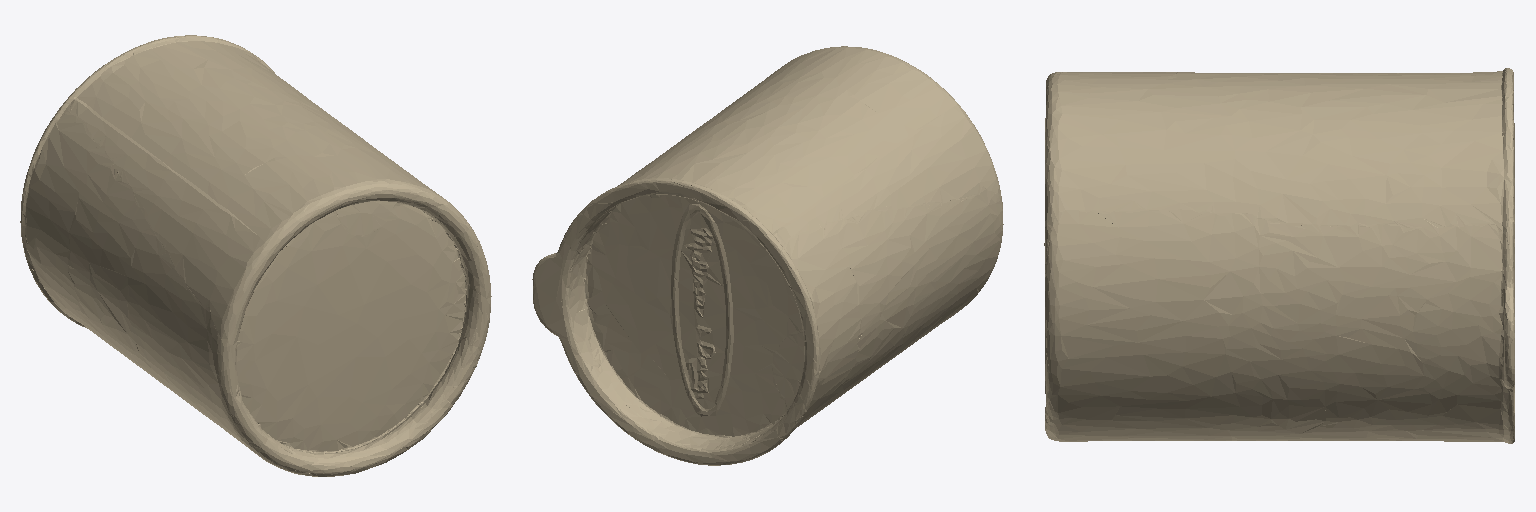
The robot description file, URDF, robot "object_183136364331389":
<?xml version="1.0"?>
<!-- Auto-generated by convert_assets.py from objects/183136364331389.
     Inertial: density 800.0 kg/m^3, raw mass 0.202587 kg clamped to 0.202587 kg (inertia scaled to match). -->
<robot name="object_183136364331389">
  <link name="baseLink">
    <inertial>
      <origin rpy="0 0 0" xyz="-0.00154425823 0.0400050367 -0.002904644"/>
      <mass value="0.202586916"/>
      <inertia ixx="0.000152587612" ixy="-3.96968066e-07" ixz="-1.00969009e-07" iyy="0.000111867772" iyz="5.92336513e-08" izz="0.000152429469"/>
    </inertial>
    <visual>
      <origin rpy="0 0 0" xyz="0 0 0"/>
      <geometry><mesh filename="../visual.obj" scale="1.0 1.0 1.0"/></geometry>
      <material name="mat"><color rgba="0.75 0.7 0.6 1"/></material>
    </visual>
    <collision name="collision_0">
      <origin rpy="0 0 0" xyz="0 0 0"/>
      <geometry><mesh filename="../convex/0.obj" scale="1.0 1.0 1.0"/></geometry>
    </collision>
    <collision name="collision_1">
      <origin rpy="0 0 0" xyz="0 0 0"/>
      <geometry><mesh filename="../convex/1.obj" scale="1.0 1.0 1.0"/></geometry>
    </collision>
    <collision name="collision_2">
      <origin rpy="0 0 0" xyz="0 0 0"/>
      <geometry><mesh filename="../convex/2.obj" scale="1.0 1.0 1.0"/></geometry>
    </collision>
    <collision name="collision_3">
      <origin rpy="0 0 0" xyz="0 0 0"/>
      <geometry><mesh filename="../convex/3.obj" scale="1.0 1.0 1.0"/></geometry>
    </collision>
    <collision name="collision_4">
      <origin rpy="0 0 0" xyz="0 0 0"/>
      <geometry><mesh filename="../convex/4.obj" scale="1.0 1.0 1.0"/></geometry>
    </collision>
    <collision name="collision_5">
      <origin rpy="0 0 0" xyz="0 0 0"/>
      <geometry><mesh filename="../convex/5.obj" scale="1.0 1.0 1.0"/></geometry>
    </collision>
    <collision name="collision_6">
      <origin rpy="0 0 0" xyz="0 0 0"/>
      <geometry><mesh filename="../convex/6.obj" scale="1.0 1.0 1.0"/></geometry>
    </collision>
    <collision name="collision_7">
      <origin rpy="0 0 0" xyz="0 0 0"/>
      <geometry><mesh filename="../convex/7.obj" scale="1.0 1.0 1.0"/></geometry>
    </collision>
    <collision name="collision_8">
      <origin rpy="0 0 0" xyz="0 0 0"/>
      <geometry><mesh filename="../convex/8.obj" scale="1.0 1.0 1.0"/></geometry>
    </collision>
    <collision name="collision_9">
      <origin rpy="0 0 0" xyz="0 0 0"/>
      <geometry><mesh filename="../convex/9.obj" scale="1.0 1.0 1.0"/></geometry>
    </collision>
    <collision name="collision_10">
      <origin rpy="0 0 0" xyz="0 0 0"/>
      <geometry><mesh filename="../convex/10.obj" scale="1.0 1.0 1.0"/></geometry>
    </collision>
    <collision name="collision_11">
      <origin rpy="0 0 0" xyz="0 0 0"/>
      <geometry><mesh filename="../convex/11.obj" scale="1.0 1.0 1.0"/></geometry>
    </collision>
    <collision name="collision_12">
      <origin rpy="0 0 0" xyz="0 0 0"/>
      <geometry><mesh filename="../convex/12.obj" scale="1.0 1.0 1.0"/></geometry>
    </collision>
    <collision name="collision_13">
      <origin rpy="0 0 0" xyz="0 0 0"/>
      <geometry><mesh filename="../convex/13.obj" scale="1.0 1.0 1.0"/></geometry>
    </collision>
    <collision name="collision_14">
      <origin rpy="0 0 0" xyz="0 0 0"/>
      <geometry><mesh filename="../convex/14.obj" scale="1.0 1.0 1.0"/></geometry>
    </collision>
    <collision name="collision_15">
      <origin rpy="0 0 0" xyz="0 0 0"/>
      <geometry><mesh filename="../convex/15.obj" scale="1.0 1.0 1.0"/></geometry>
    </collision>
    <collision name="collision_16">
      <origin rpy="0 0 0" xyz="0 0 0"/>
      <geometry><mesh filename="../convex/16.obj" scale="1.0 1.0 1.0"/></geometry>
    </collision>
    <collision name="collision_17">
      <origin rpy="0 0 0" xyz="0 0 0"/>
      <geometry><mesh filename="../convex/17.obj" scale="1.0 1.0 1.0"/></geometry>
    </collision>
    <collision name="collision_18">
      <origin rpy="0 0 0" xyz="0 0 0"/>
      <geometry><mesh filename="../convex/18.obj" scale="1.0 1.0 1.0"/></geometry>
    </collision>
    <collision name="collision_19">
      <origin rpy="0 0 0" xyz="0 0 0"/>
      <geometry><mesh filename="../convex/19.obj" scale="1.0 1.0 1.0"/></geometry>
    </collision>
    <collision name="collision_20">
      <origin rpy="0 0 0" xyz="0 0 0"/>
      <geometry><mesh filename="../convex/20.obj" scale="1.0 1.0 1.0"/></geometry>
    </collision>
    <collision name="collision_21">
      <origin rpy="0 0 0" xyz="0 0 0"/>
      <geometry><mesh filename="../convex/21.obj" scale="1.0 1.0 1.0"/></geometry>
    </collision>
    <collision name="collision_22">
      <origin rpy="0 0 0" xyz="0 0 0"/>
      <geometry><mesh filename="../convex/22.obj" scale="1.0 1.0 1.0"/></geometry>
    </collision>
    <collision name="collision_23">
      <origin rpy="0 0 0" xyz="0 0 0"/>
      <geometry><mesh filename="../convex/23.obj" scale="1.0 1.0 1.0"/></geometry>
    </collision>
    <collision name="collision_24">
      <origin rpy="0 0 0" xyz="0 0 0"/>
      <geometry><mesh filename="../convex/24.obj" scale="1.0 1.0 1.0"/></geometry>
    </collision>
    <collision name="collision_25">
      <origin rpy="0 0 0" xyz="0 0 0"/>
      <geometry><mesh filename="../convex/25.obj" scale="1.0 1.0 1.0"/></geometry>
    </collision>
    <collision name="collision_26">
      <origin rpy="0 0 0" xyz="0 0 0"/>
      <geometry><mesh filename="../convex/26.obj" scale="1.0 1.0 1.0"/></geometry>
    </collision>
    <collision name="collision_27">
      <origin rpy="0 0 0" xyz="0 0 0"/>
      <geometry><mesh filename="../convex/27.obj" scale="1.0 1.0 1.0"/></geometry>
    </collision>
    <collision name="collision_28">
      <origin rpy="0 0 0" xyz="0 0 0"/>
      <geometry><mesh filename="../convex/28.obj" scale="1.0 1.0 1.0"/></geometry>
    </collision>
    <collision name="collision_29">
      <origin rpy="0 0 0" xyz="0 0 0"/>
      <geometry><mesh filename="../convex/29.obj" scale="1.0 1.0 1.0"/></geometry>
    </collision>
    <collision name="collision_30">
      <origin rpy="0 0 0" xyz="0 0 0"/>
      <geometry><mesh filename="../convex/30.obj" scale="1.0 1.0 1.0"/></geometry>
    </collision>
  </link>
</robot>

--- What the picture shows (computed from the rendered views, not written in the file) ---
The picture shows the robot from 3 angles, left to right: view 1: azimuth 30°, elevation 25°; view 2: azimuth 150°, elevation 25°; view 3: azimuth 270°, elevation 25°; orthographic projection.
Robot: object_183136364331389 — 1 links, 0 joints (none); root link baseLink; default pose: all joints at 0.
Visible links, largest first — view 1: baseLink; view 2: baseLink; view 3: baseLink.
Link boxes in pixels (<box>): baseLink: <box>20,35,491,476</box>; baseLink: <box>532,46,1003,465</box>; baseLink: <box>1044,68,1514,443</box>.
Bounding box of the posed robot: 0.0707 × 0.0823 × 0.0658 m (x, y, z).
1 mesh visuals loaded from 1 distinct referenced files (1 OBJ).
